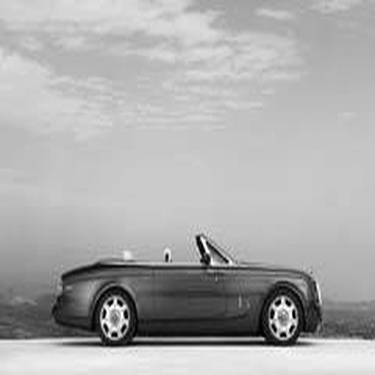car: (38, 226, 329, 349)
